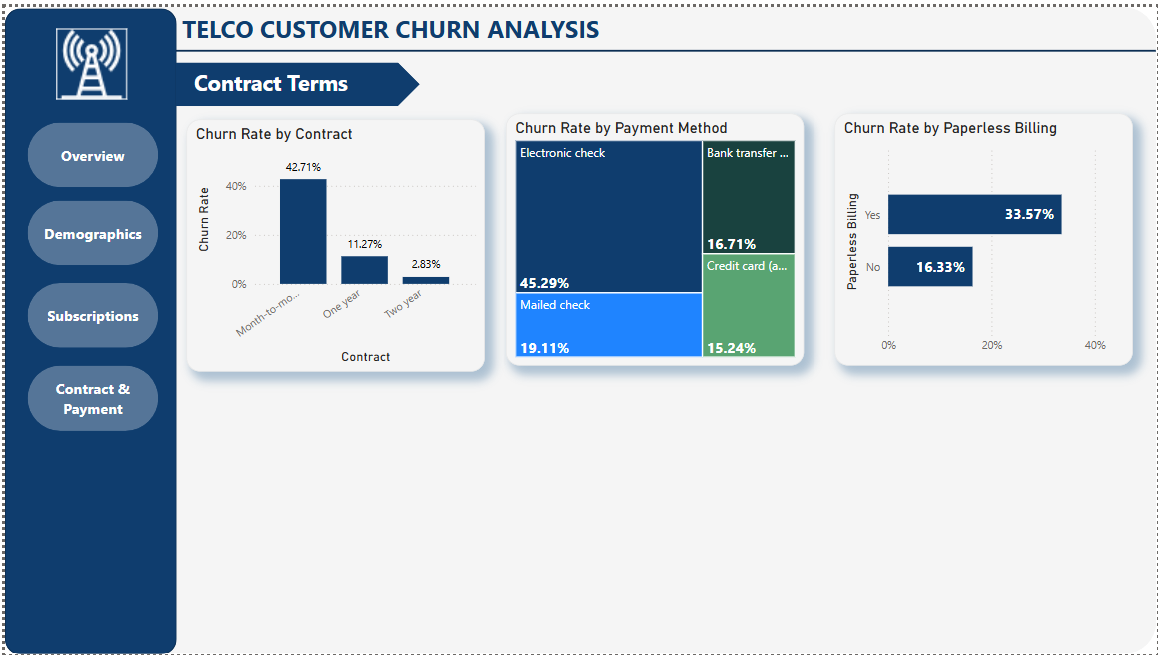

The dashboard page shown, as its layout file describes it:
{"tool":"powerbi","page":{"name":"Contract Terms","canvas":[1280,720],"ordinal":3},"visuals":[{"type":"shape","title":"Background","box":[0,0,1279.5,719.2],"z":0},{"type":"shape","title":"Nav Pane","box":[0,1.5,190.8,717.7],"z":1000},{"type":"shape","title":"Line","box":[190.8,34.8,1088.7,27.3],"z":2000},{"type":"textbox","box":[192.3,0,490.6,45.4],"z":3000},{"type":"actionButton","title":"Overview","box":[24.2,128.7,145.4,72],"z":4000},{"type":"actionButton","title":"Demographics button","box":[24.2,215,145.4,72],"z":5000},{"type":"actionButton","title":"Subscriptions button","box":[24.2,305.9,145.4,72],"z":6000},{"type":"actionButton","title":"Contract terms button","box":[24.2,398.2,145.4,72.7],"z":7000},{"type":"shape","title":"Overview shape","box":[190.8,62.1,271,48.5],"z":8000},{"type":"textbox","box":[204.6,61.4,216.3,48.2],"z":9000},{"type":"clusteredBarChart","fields":{"Y":["Telco_Churn.Churn Rate"],"Category":["Telco_Churn.Paperless Billing"]},"box":[922.2,118.1,331.6,280.1],"z":10000},{"type":"columnChart","title":"Churn Rate by Contract","fields":{"Y":["Telco_Churn.Churn Rate"],"Category":["Telco_Churn.Contract"]},"box":[201.4,125.7,331.6,280.1],"z":11000},{"type":"treemap","fields":{"Group":["Telco_Churn.Payment Method"],"Values":["Telco_Churn.Churn Rate"]},"box":[557.2,118.1,331,280.1],"z":12000},{"type":"image","box":[39.4,18.2,112.1,89.3],"z":13000}]}

Visuals, with their boxes in screenshot pixels (x1, y1, x2, y2), scaled from the page's 1280x720 canvas onto the 1158x655 screenshot:
"Background" shape: (0, 0, 1157, 654)
"Nav Pane" shape: (0, 1, 173, 654)
"Line" shape: (173, 32, 1157, 56)
textbox: (174, 0, 618, 41)
"Overview" actionButton: (22, 117, 153, 183)
"Demographics button" actionButton: (22, 196, 153, 261)
"Subscriptions button" actionButton: (22, 278, 153, 344)
"Contract terms button" actionButton: (22, 362, 153, 428)
"Overview shape" shape: (173, 56, 418, 101)
textbox: (185, 56, 381, 100)
clusteredBarChart - Telco_Churn.Churn Rate x Telco_Churn.Paperless Billing: (834, 107, 1134, 362)
"Churn Rate by Contract" columnChart: (182, 114, 482, 369)
treemap - Telco_Churn.Payment Method x Telco_Churn.Churn Rate: (504, 107, 804, 362)
image: (36, 17, 137, 98)
